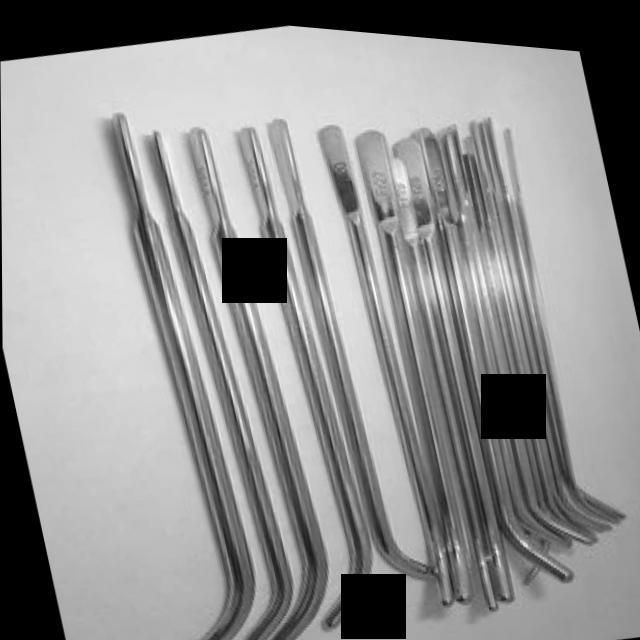Urethral Dilators: (51, 85, 276, 640), (372, 107, 578, 618), (122, 96, 314, 640), (158, 93, 342, 640), (209, 88, 385, 640), (266, 79, 442, 608), (309, 94, 472, 619), (471, 102, 604, 548)
